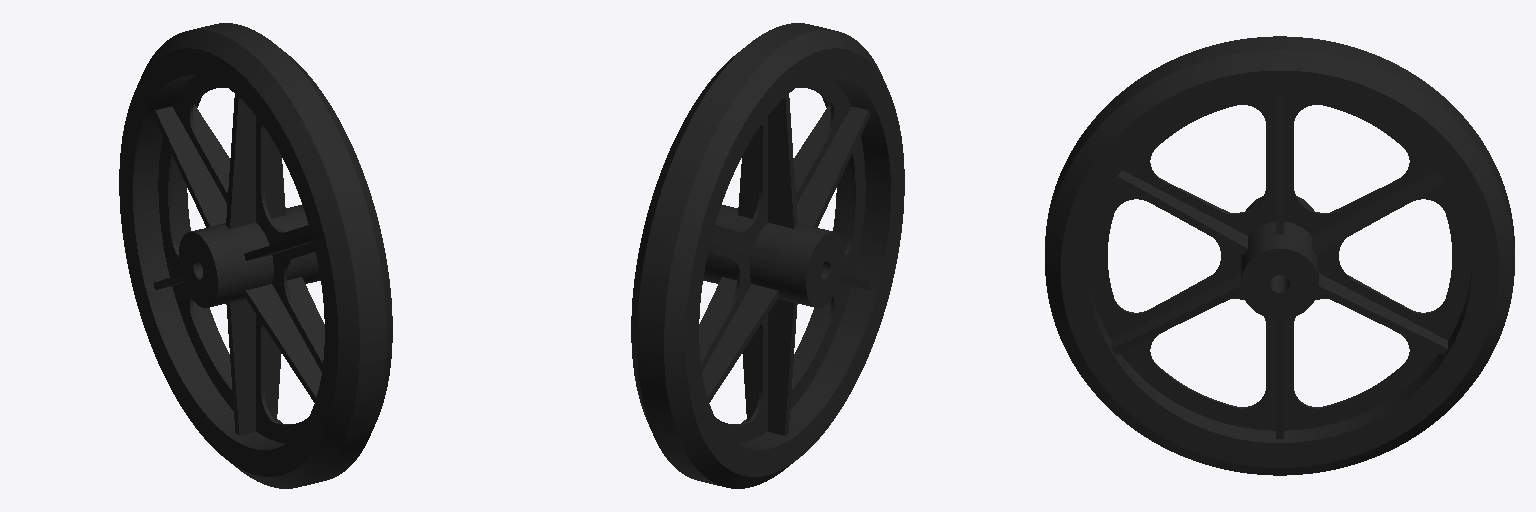
Rendered from rightfrontwheel_visual.obj.
3 renders of one model, left to right at view 1: azimuth 30°, elevation 25°; view 2: azimuth 150°, elevation 25°; view 3: azimuth 270°, elevation 25°, orthographic.
Parts seen in each view (by area): view 1: rightfrontwheel_visual.001; view 2: rightfrontwheel_visual.001; view 3: rightfrontwheel_visual.001.
Boxes of the visible parts, x1,y1,x2,y2 form: rightfrontwheel_visual.001: [119, 23, 392, 488]; rightfrontwheel_visual.001: [631, 23, 904, 488]; rightfrontwheel_visual.001: [1045, 36, 1514, 475].
Size of the model in its own units: 0.054 by 0.1904 by 0.1905.